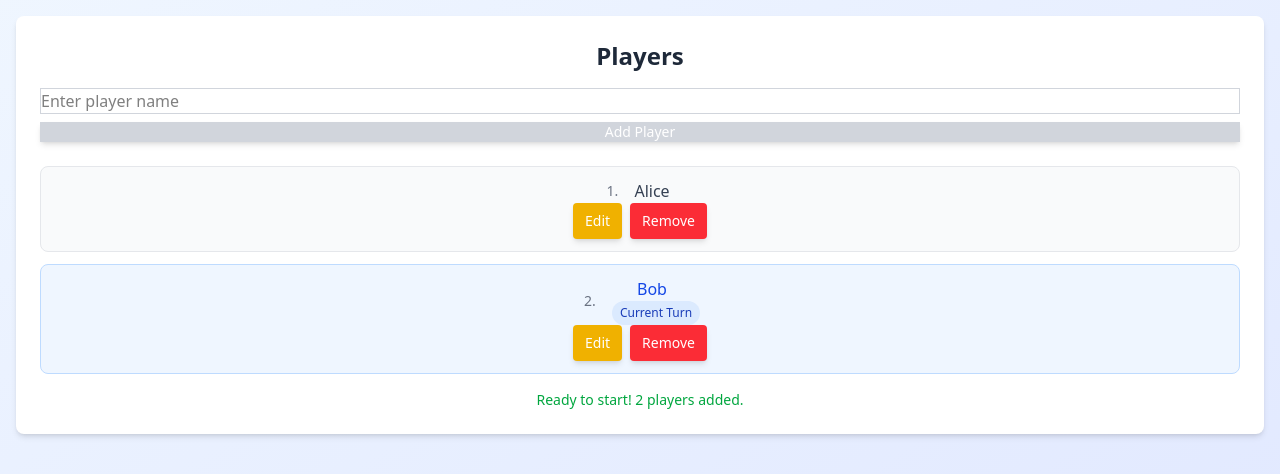
Test: PlayerManager Component › Player Editing › should exit edit mode when save is clicked
Click the button "Edit" below "Alice": coordinates (598, 221) [573,203,622,239]
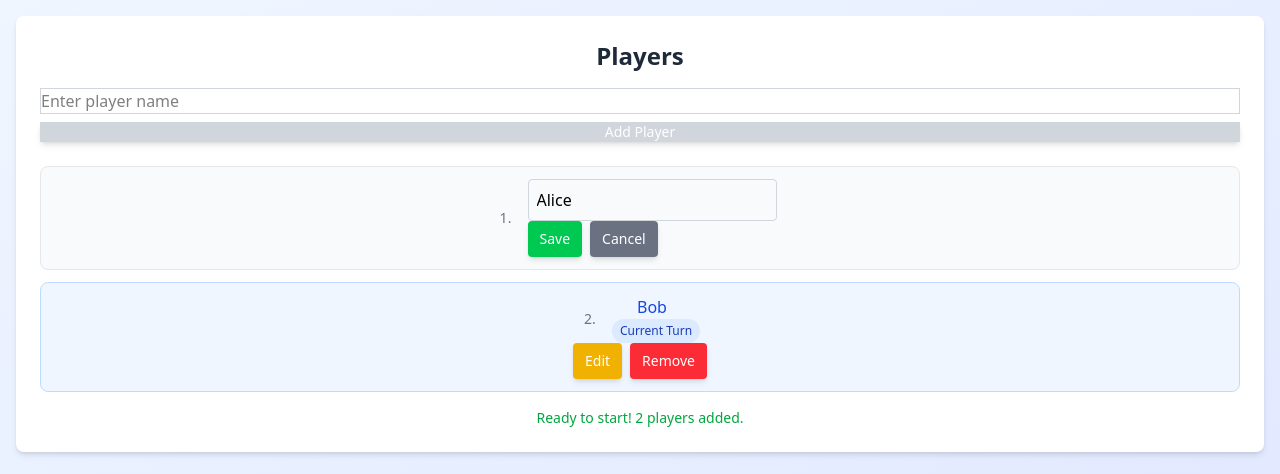
Replace the text in the field showing "Alice" with "Alice Updated": coordinates (652, 200) [528,179,776,221]
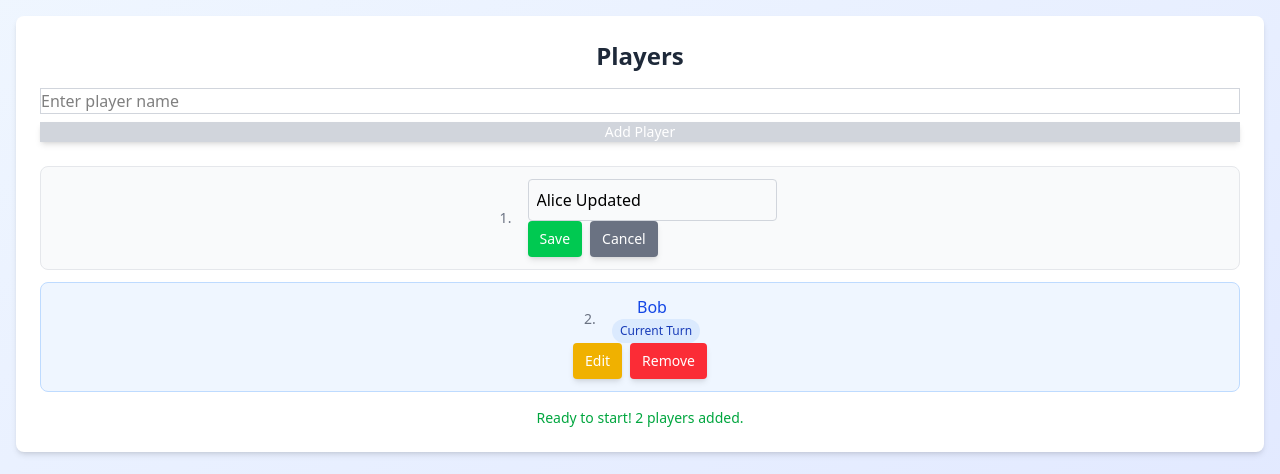
Click the button "Save": coordinates (555, 239) [528,221,582,257]
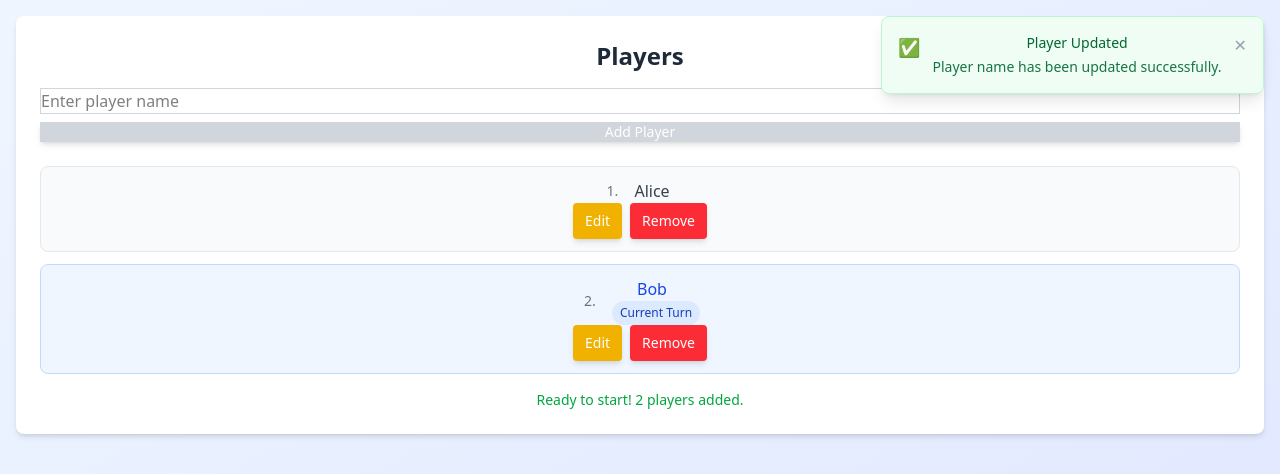
Expected: the field showing "Alice Updated" is not shown
Expected: the button "Save" is gone
